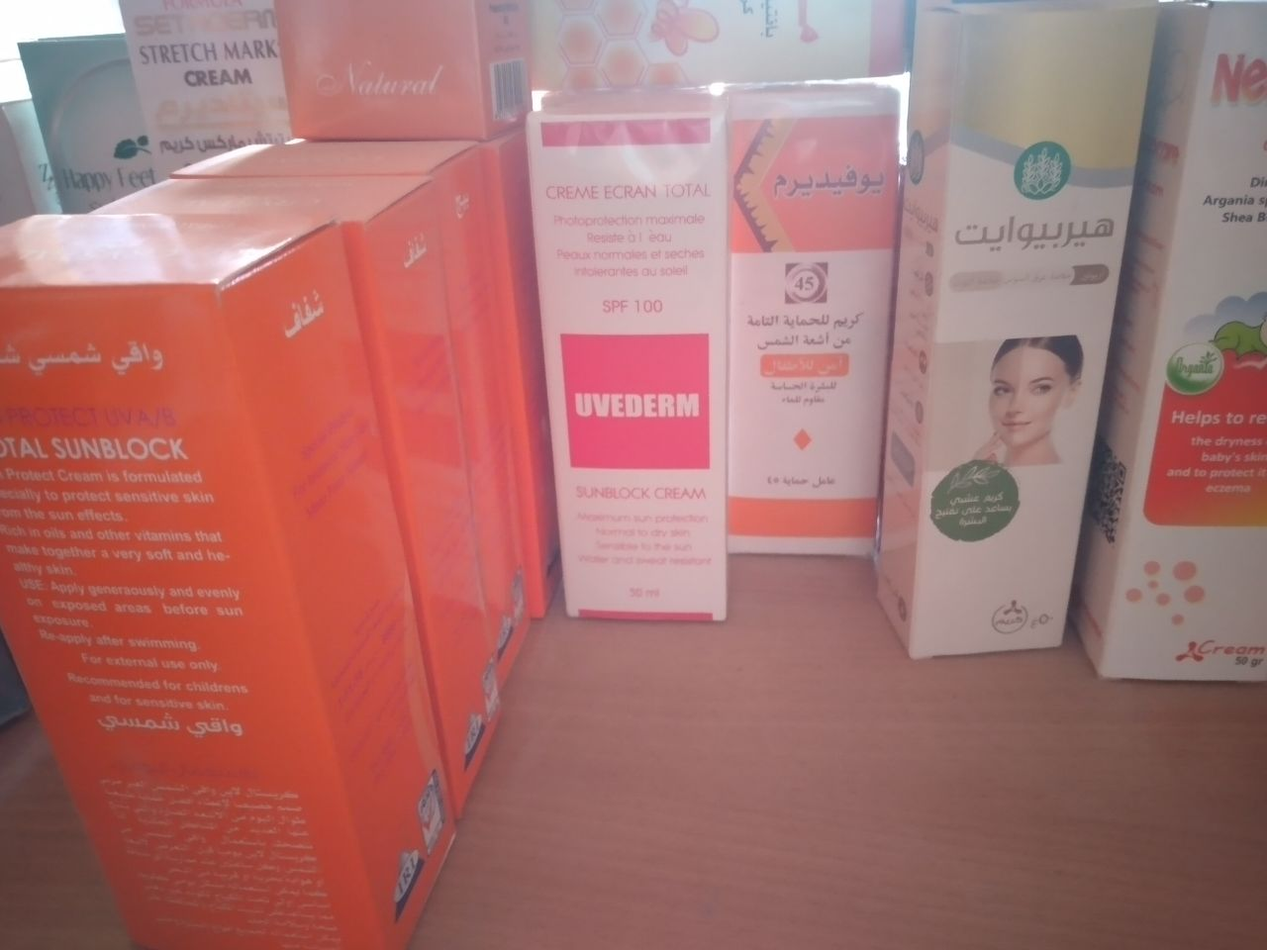Medicine: (0, 203, 440, 943), (883, 0, 1175, 683), (527, 92, 742, 636), (1101, 0, 1267, 695), (728, 69, 916, 562), (106, 2, 285, 166), (282, 0, 485, 136)
